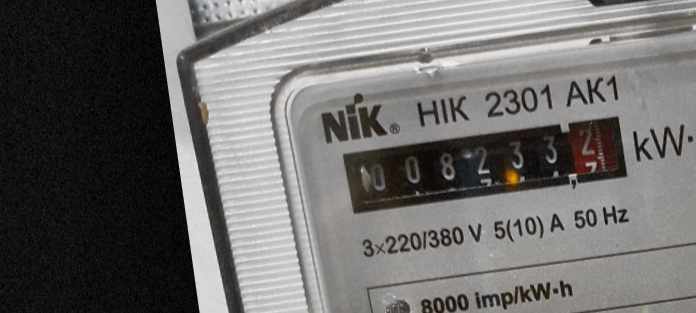0: (366, 160, 391, 195), (402, 154, 424, 188)
2: (470, 144, 494, 179), (577, 126, 598, 159)
3: (506, 139, 528, 172), (541, 133, 562, 166)
8: (437, 150, 459, 184)
screen: (332, 104, 641, 226)
